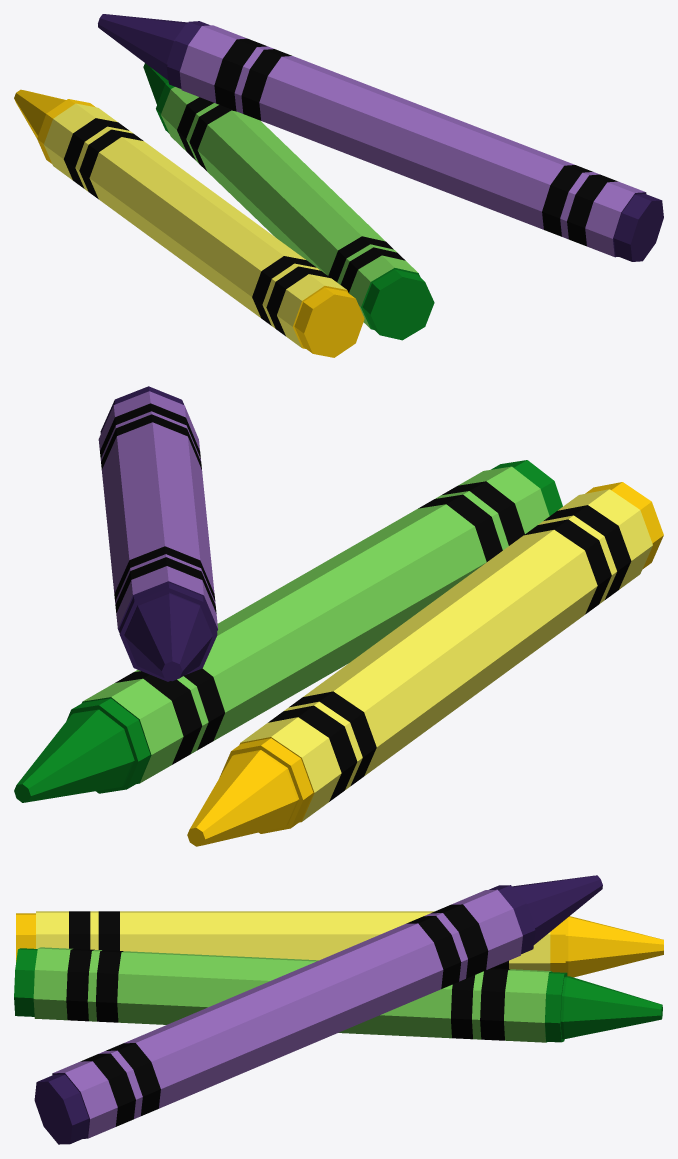
The model's file is 3-crayons.glb.
3 renders of one model, top to bottom at view 1: azimuth 30°, elevation 25°; view 2: azimuth 150°, elevation 25°; view 3: azimuth 270°, elevation 25°, orthographic. The views are drawn at different scales.
Visible parts, largest first — view 1: node-0; view 2: node-0; view 3: node-0.
Part boxes in pixels (box(x1,y1,x2,y2)): node-0: box(14, 14, 663, 357); node-0: box(14, 386, 663, 846); node-0: box(14, 875, 663, 1144).
Bounding box in the file's own units: 12.61 × 4.33 × 17.68.
